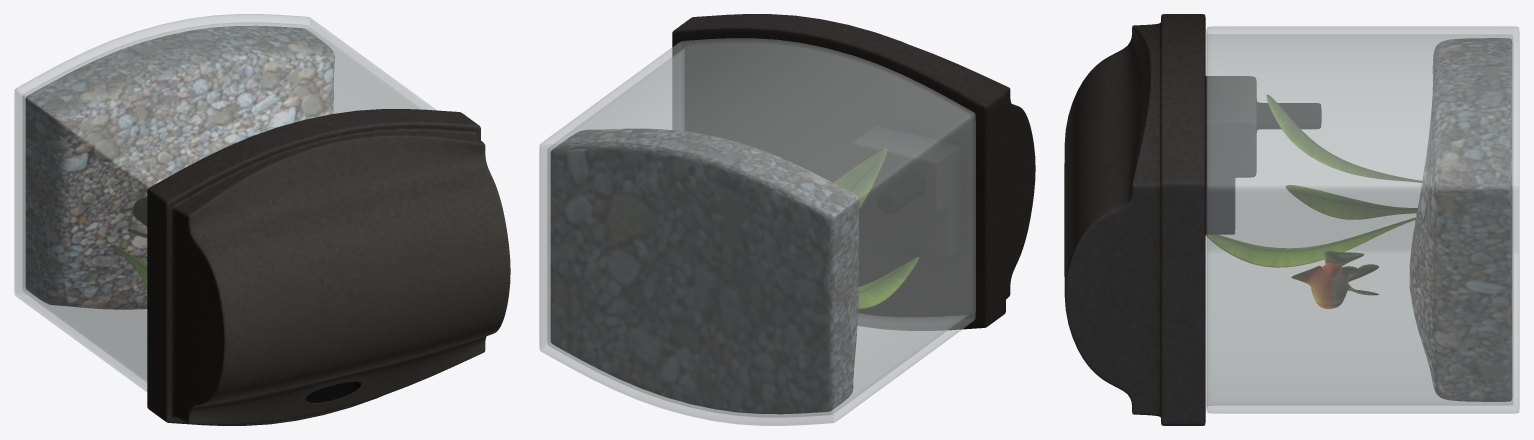
Rendered from 10286_Fish_Tank_v1_max2010_it2.obj.
3 renders of one model, left to right at view 1: azimuth 30°, elevation 25°; view 2: azimuth 150°, elevation 25°; view 3: azimuth 270°, elevation 25°, orthographic. The views are drawn at different scales.
Visible parts, largest first — view 1: tank, tank_glass; view 2: tank, tank_glass; view 3: tank_glass, tank.
Boxes of the visible parts, x1,y1,x2,y2 form: tank: [25, 25, 510, 425]; tank_glass: [14, 14, 436, 391]; tank: [550, 14, 1035, 414]; tank_glass: [539, 38, 975, 425]; tank_glass: [1206, 26, 1519, 413]; tank: [1064, 14, 1512, 425].
Size of the model in its own units: 19.19 by 16.4 by 21.76.
2 materials, 2 textured.
